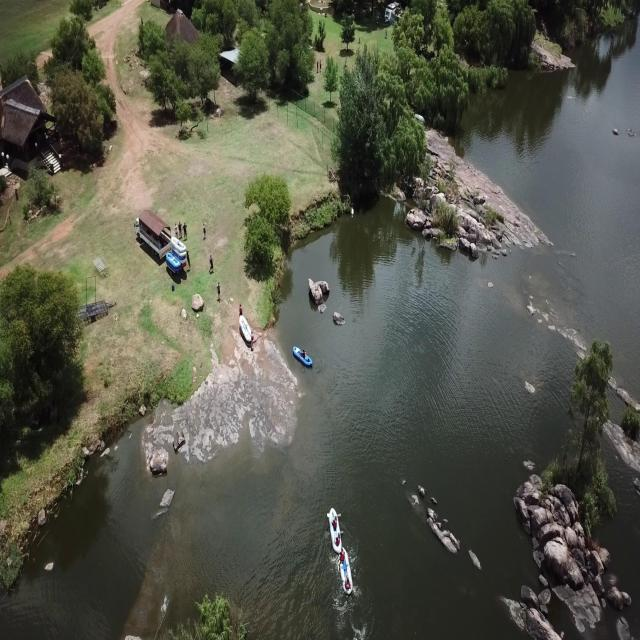kayak: (327, 505, 343, 555), (340, 547, 354, 595), (292, 344, 312, 369)
